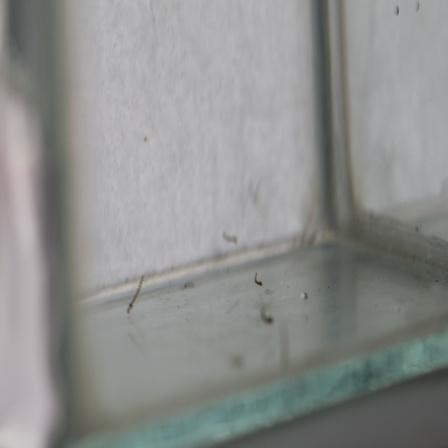Jentik-Nyamuk: (124, 272, 146, 315), (252, 268, 266, 292)
